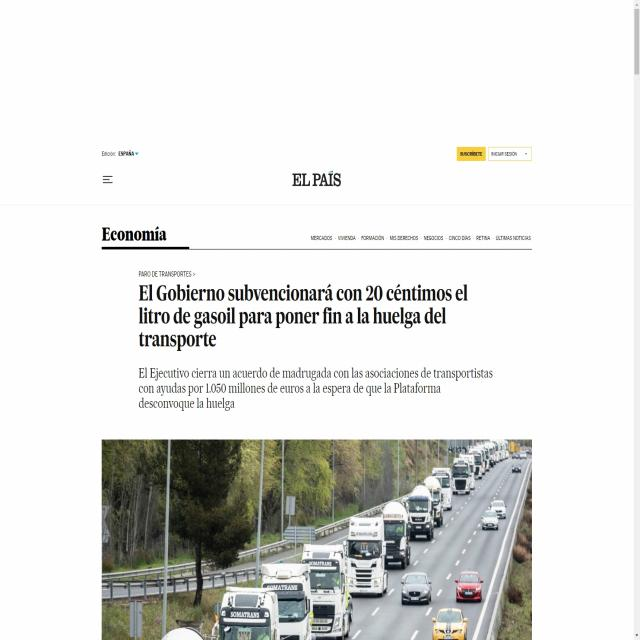menu-panel: (306, 229, 532, 245)
